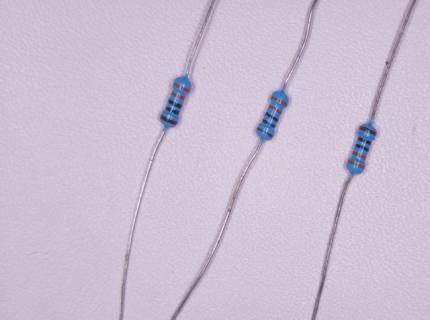Black band: (165, 106, 180, 116), (265, 112, 278, 123), (168, 99, 182, 109), (357, 137, 372, 145), (263, 119, 276, 128), (356, 143, 369, 152)
Brown band: (257, 127, 274, 139), (160, 114, 178, 125), (360, 126, 376, 136)
Orange band: (270, 95, 288, 107), (173, 82, 190, 93), (347, 159, 365, 169), (171, 91, 186, 101), (268, 105, 283, 115), (352, 151, 367, 160)
